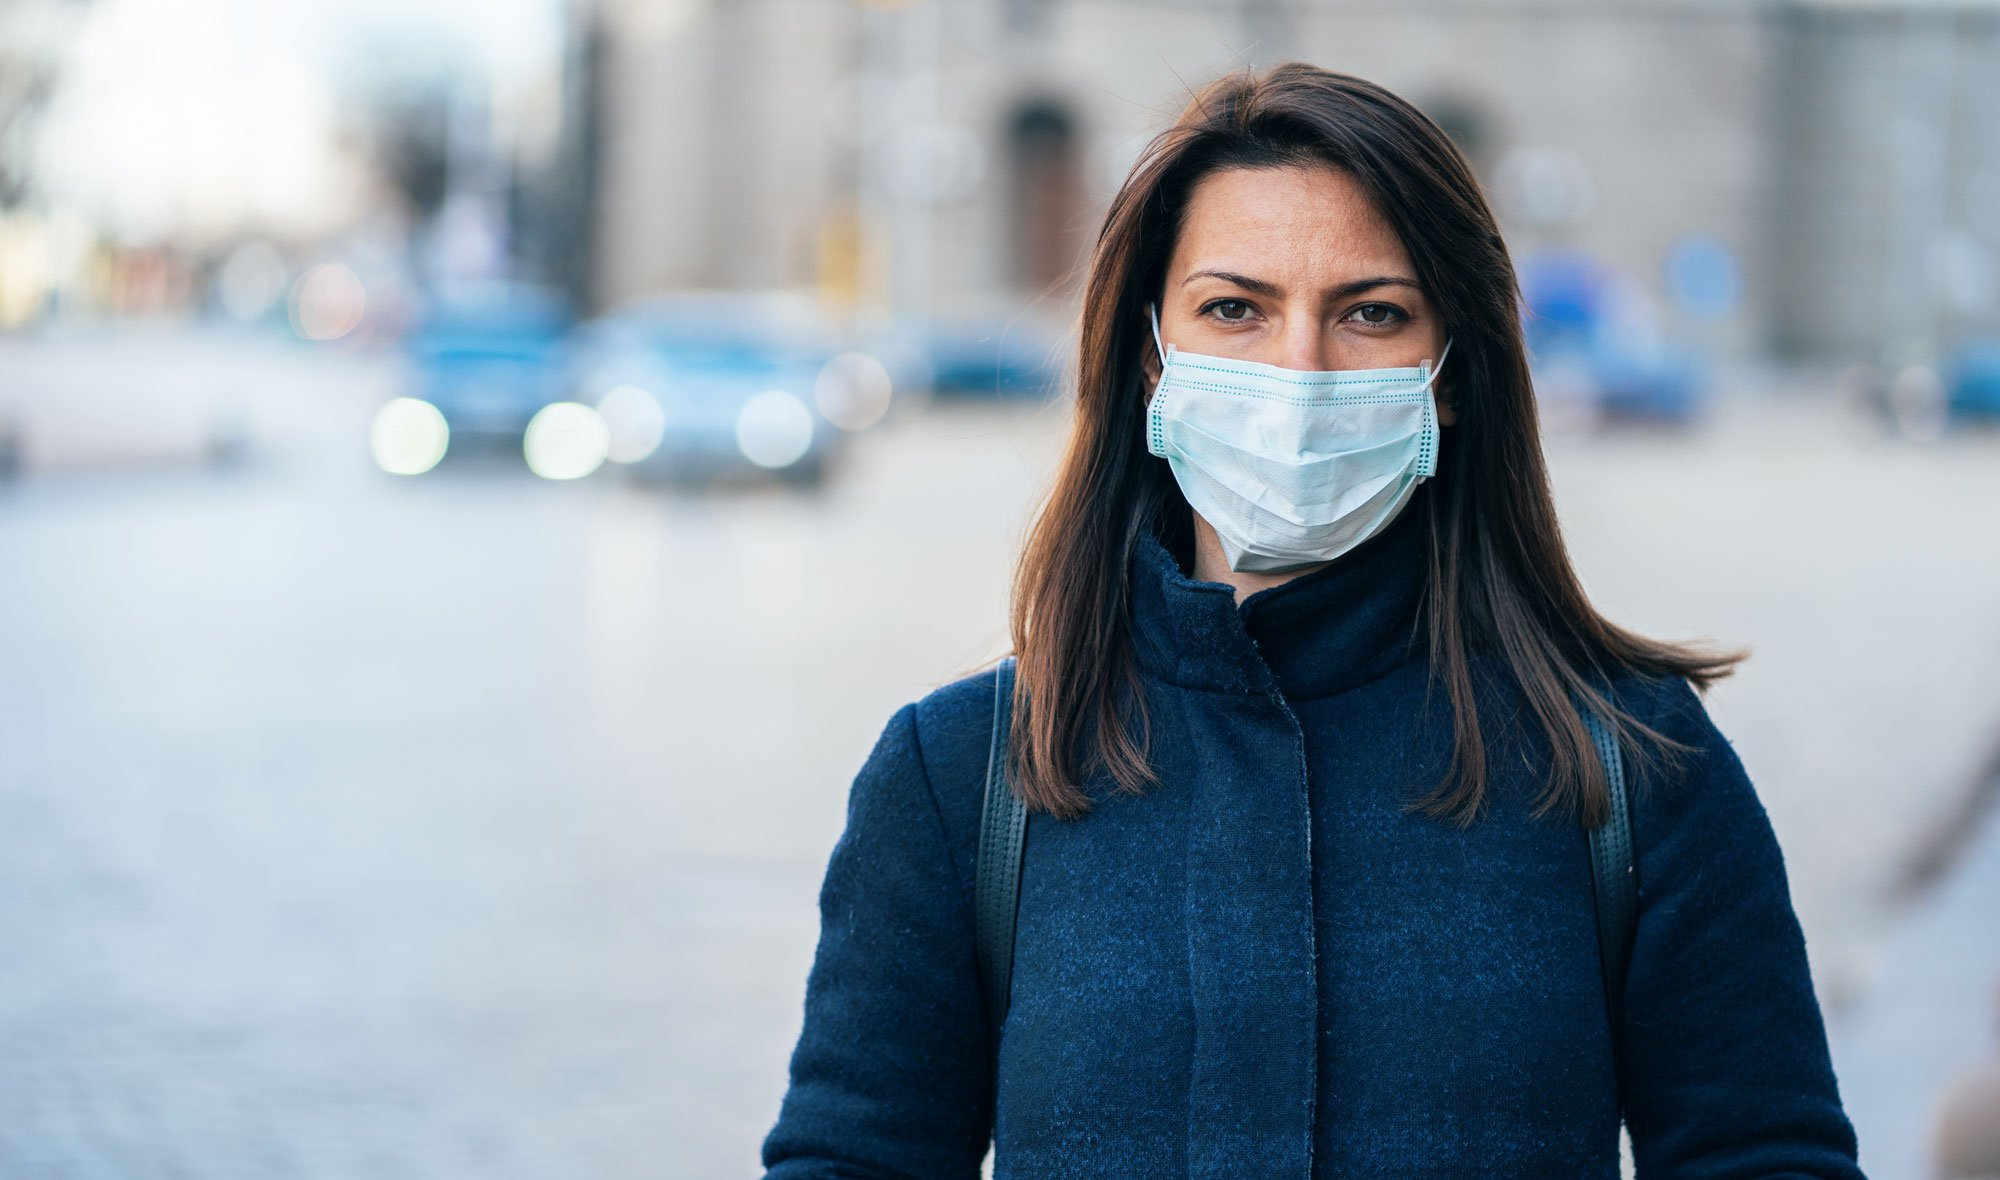with_mask: (1071, 91, 1536, 609)
